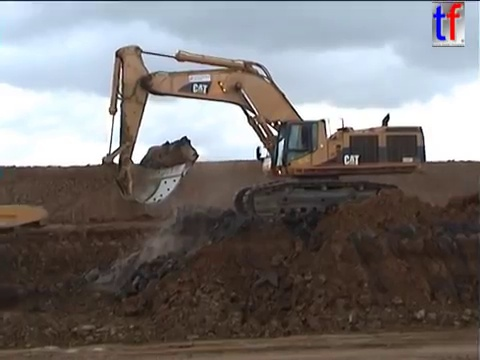excavator: (98, 41, 429, 226)
truck: (1, 201, 49, 235)
